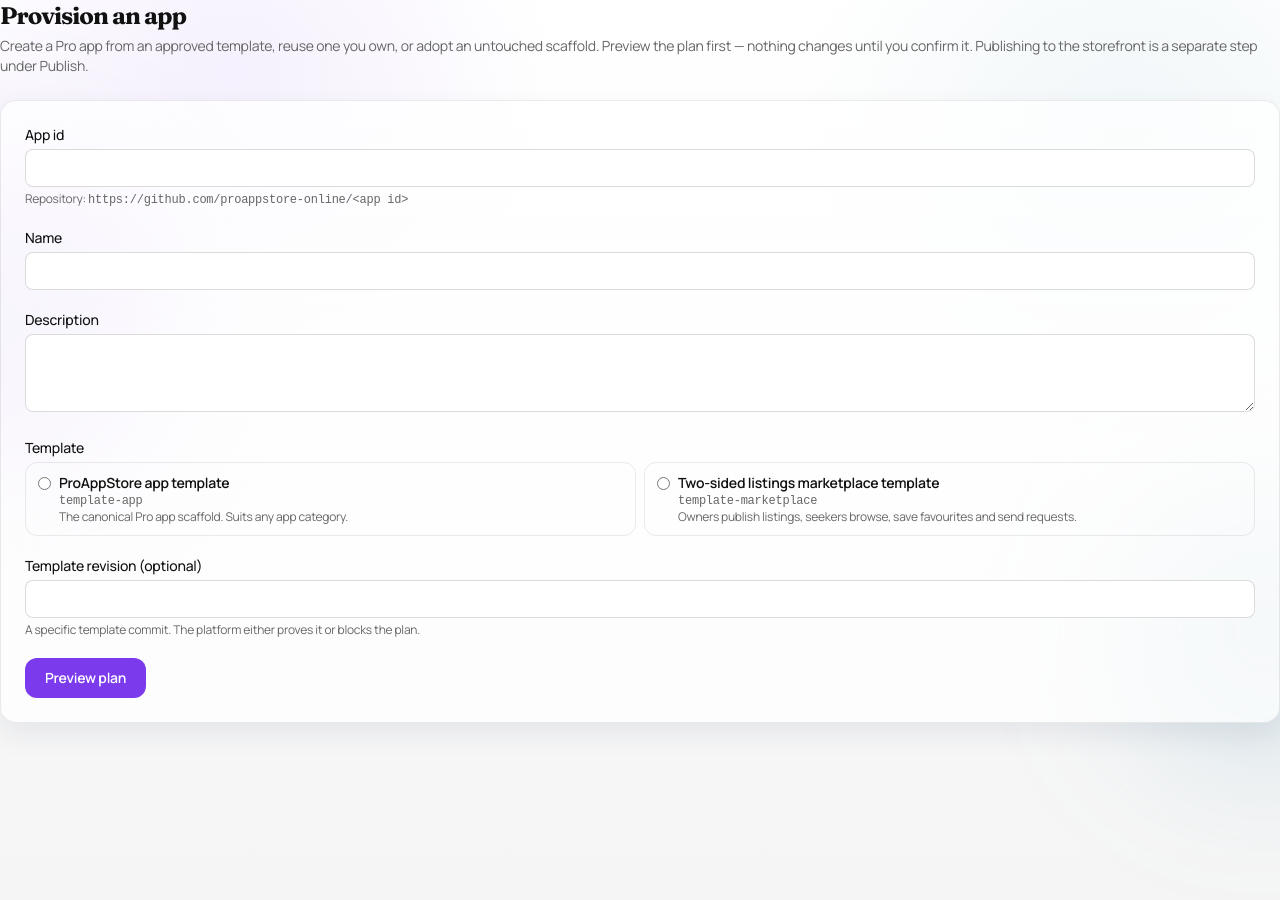
it: ProvisionView preview › sends exactly the reviewed intent with the session header, and does not confirm
The image size is (1280, 900).
In the field labelled "App id": (640, 168) top-left (25, 149), bottom-right (1255, 187), type "school-clubs"
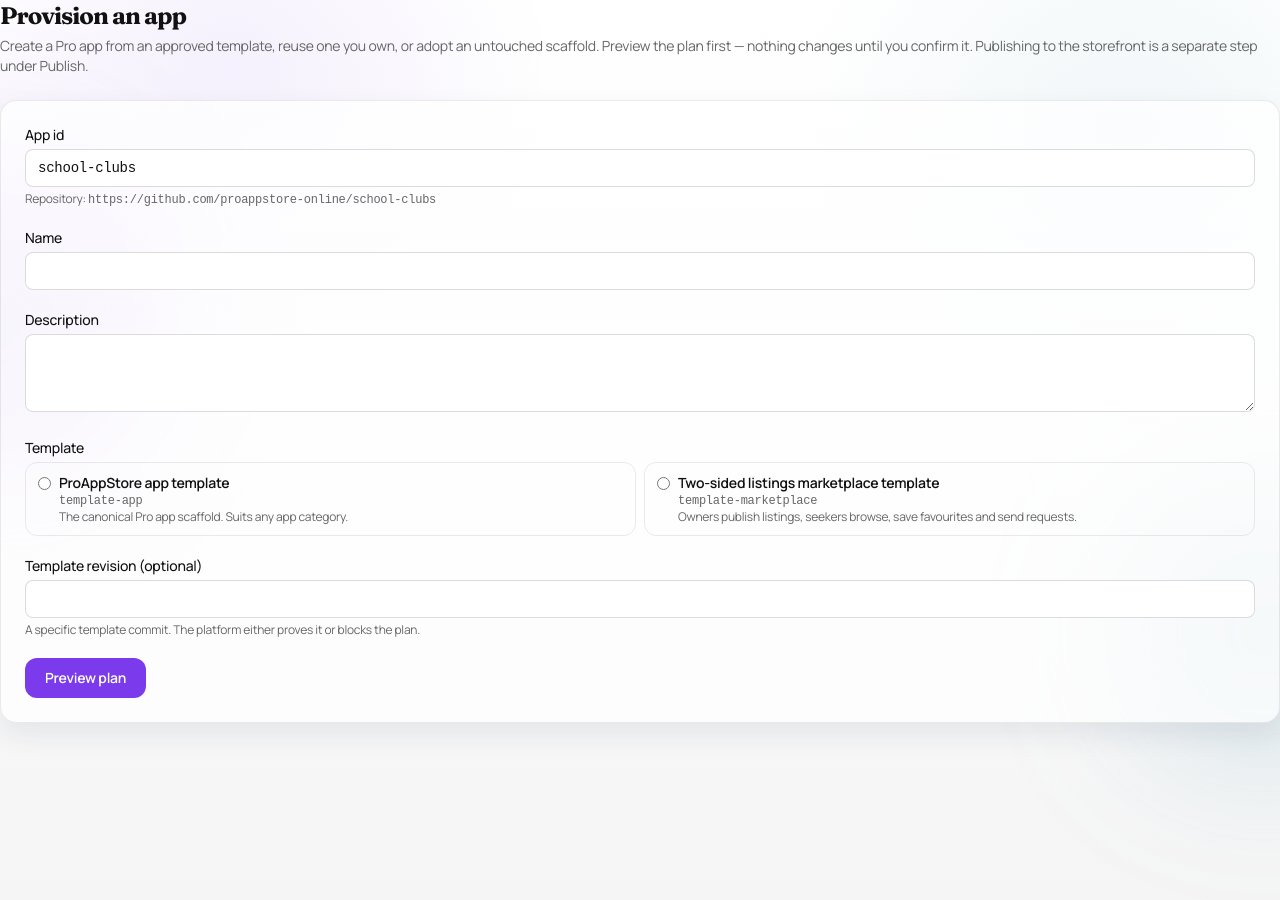
In the field labelled "Name": (640, 271) top-left (25, 252), bottom-right (1255, 290), type "  School Clubs "
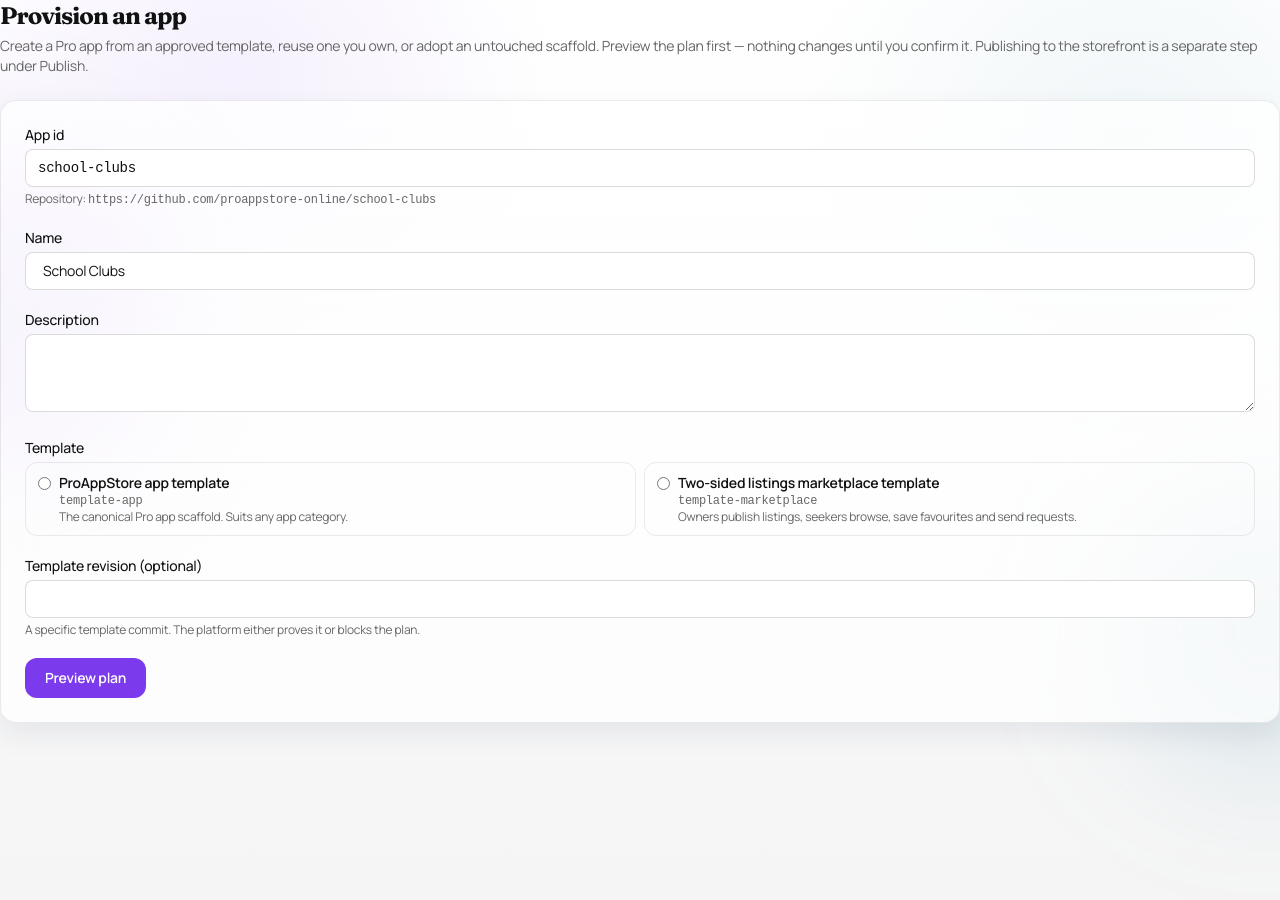
In the text box labelled "Description": (640, 373) top-left (25, 334), bottom-right (1255, 412), type "Coordinate school clubs."
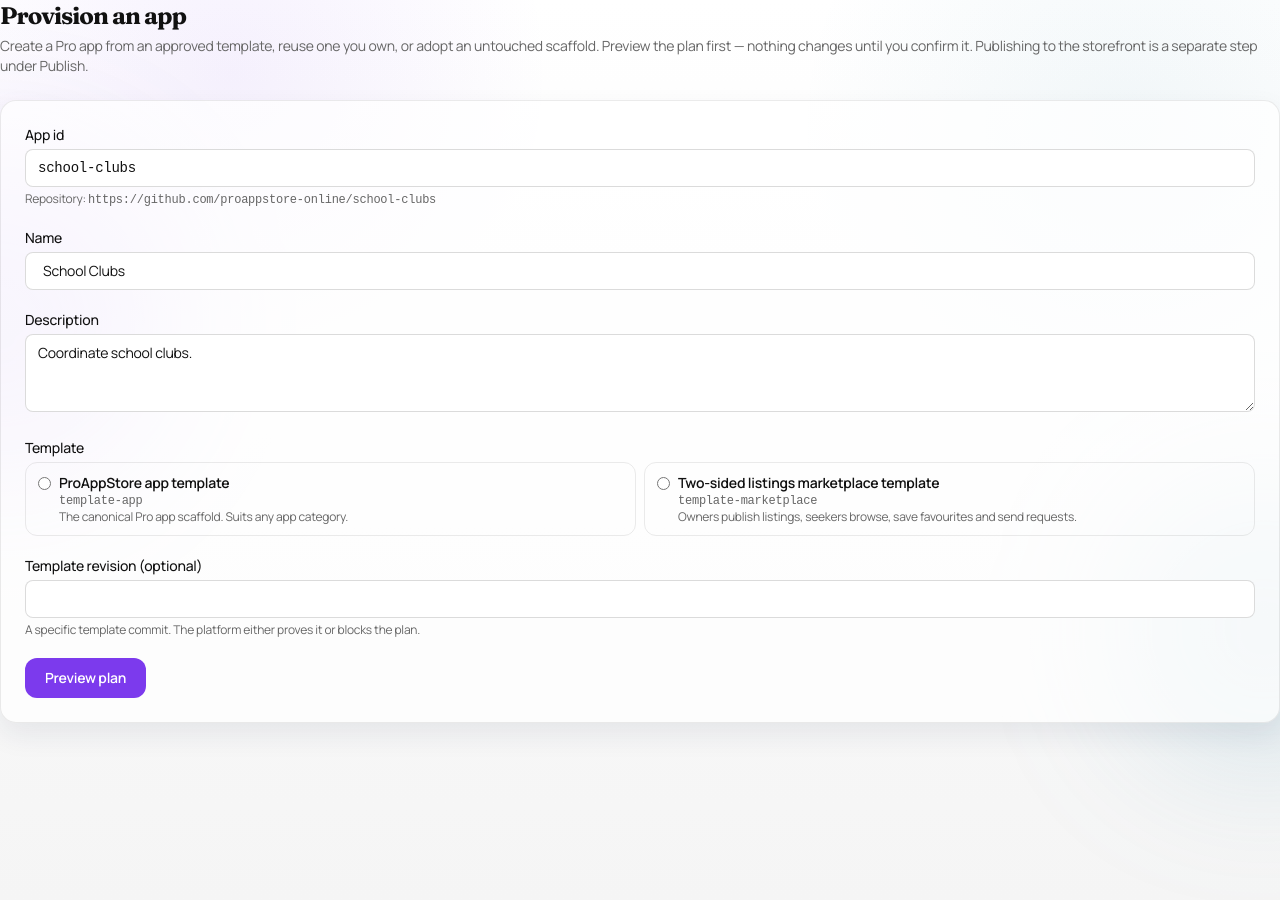
Click the radio button labelled "Two-sided listings": (664, 484) top-left (657, 477), bottom-right (670, 490)
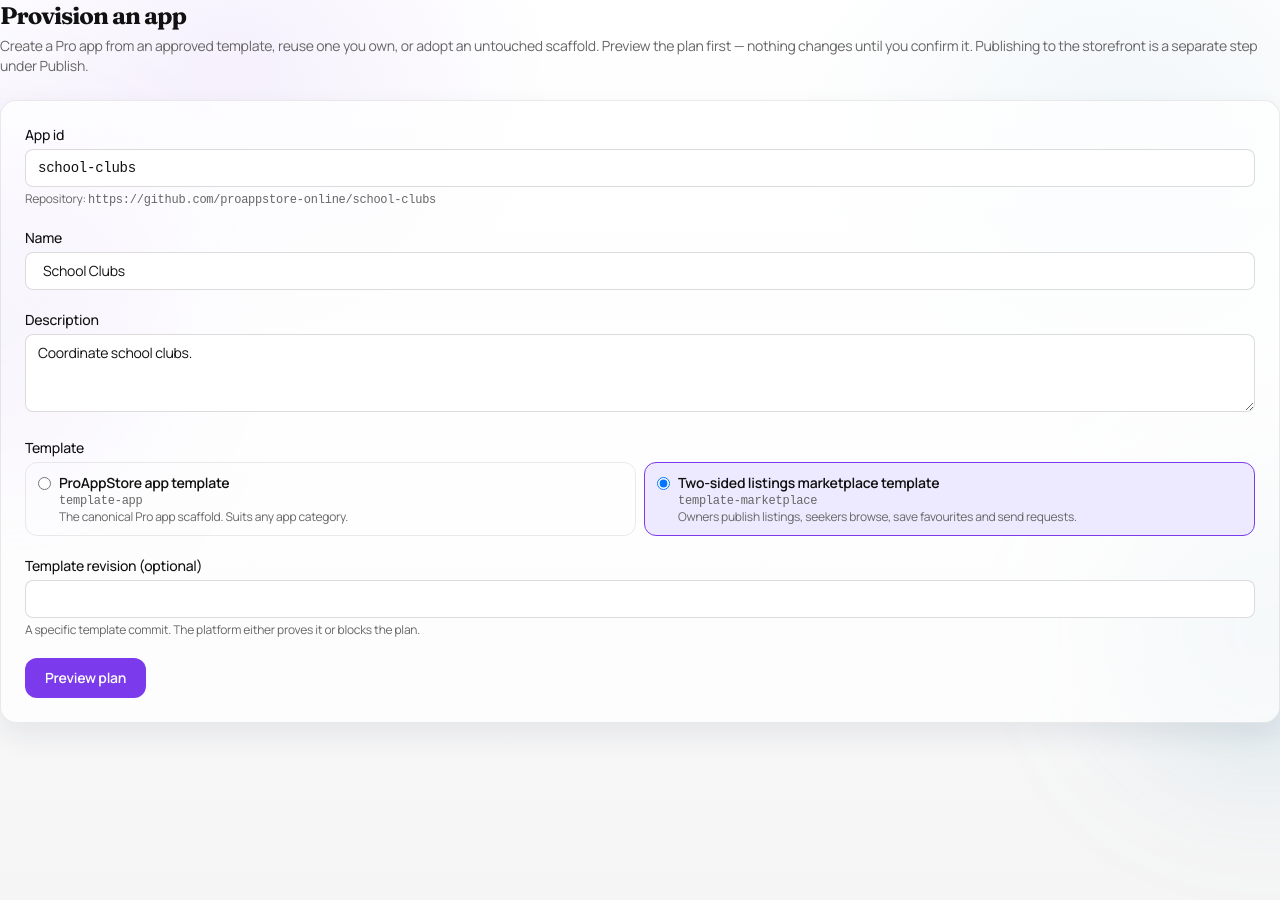
In the field labelled "Template revision (optional)": (640, 599) top-left (25, 580), bottom-right (1255, 618), type "abcdef1"
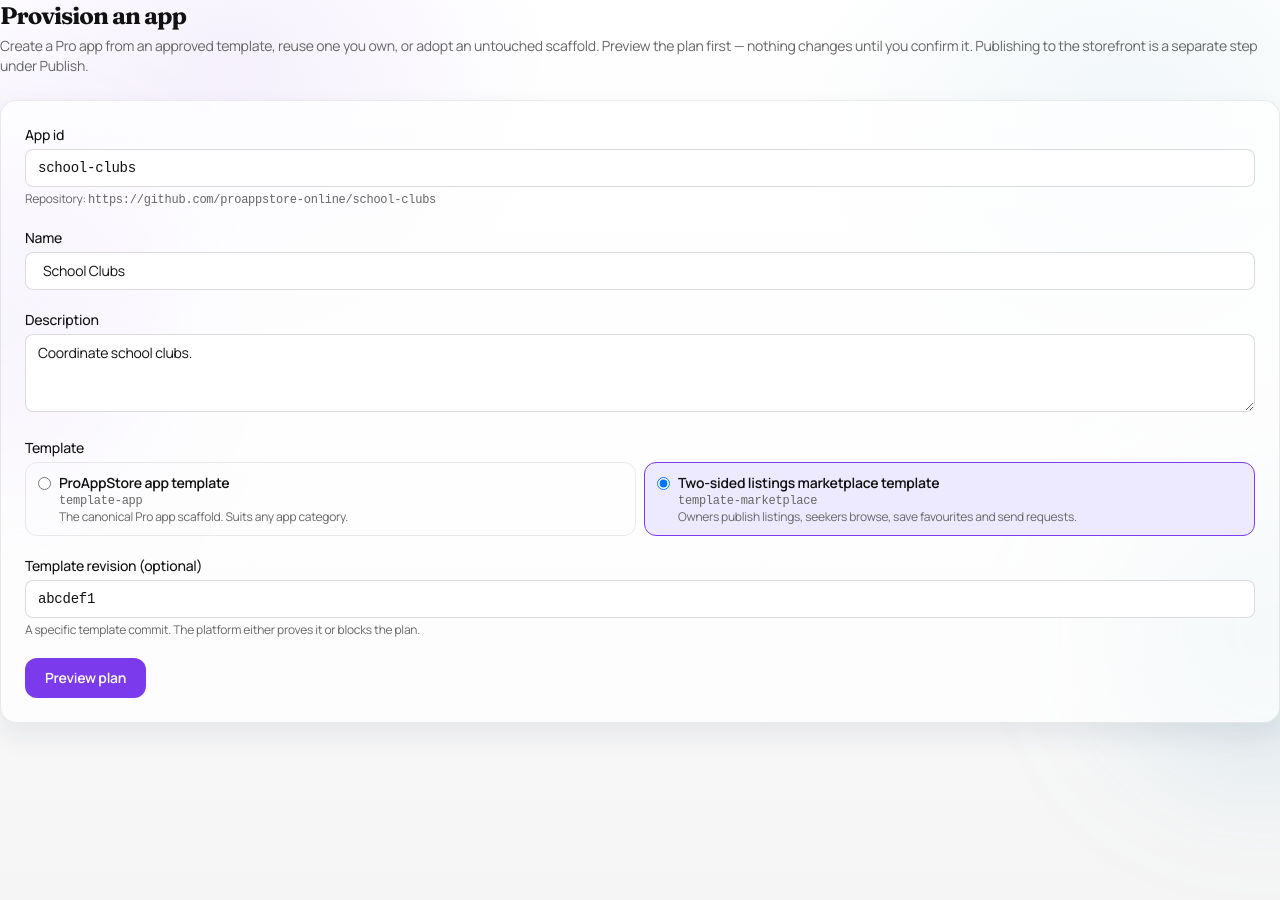
Click the button "Preview plan": (86, 678) top-left (25, 658), bottom-right (146, 698)
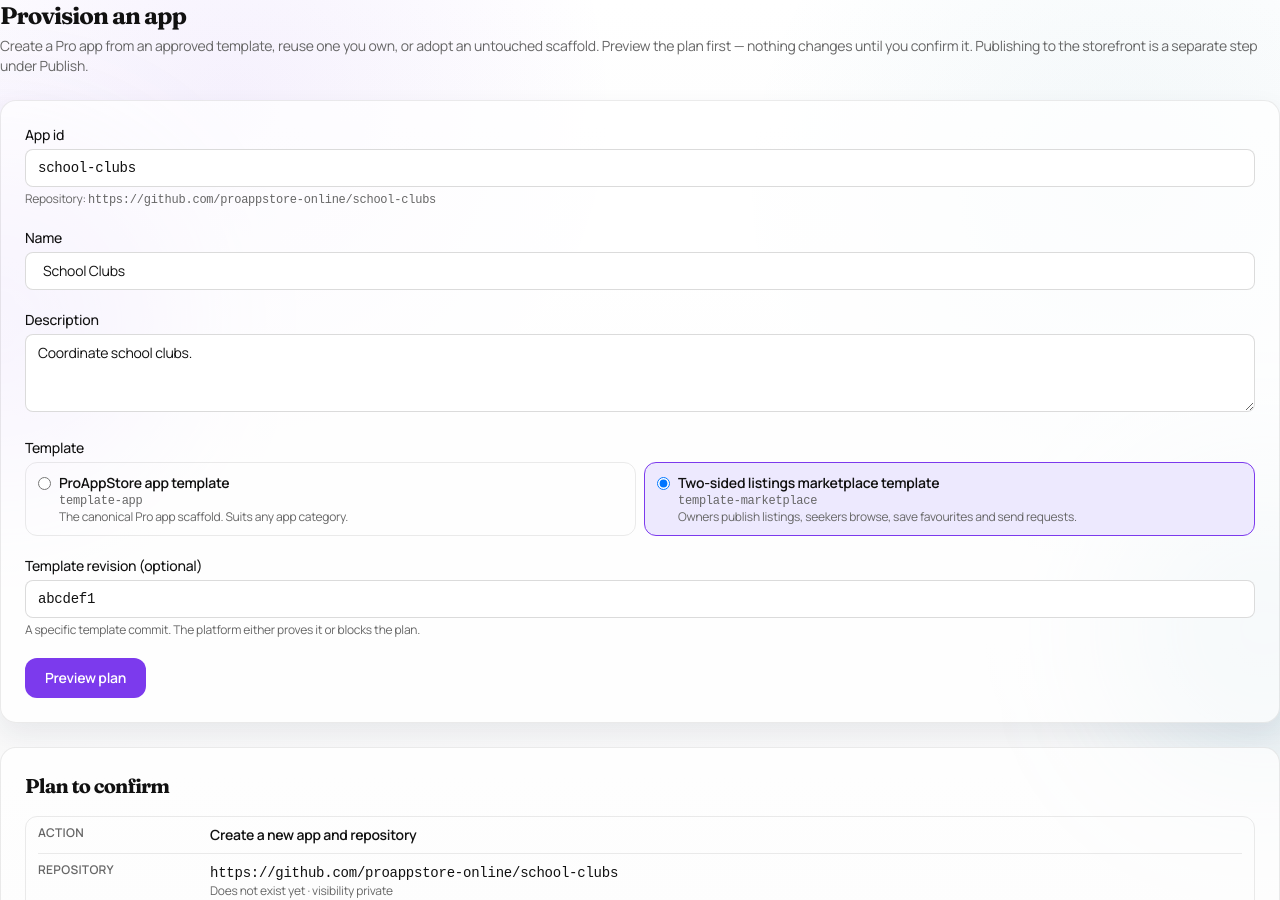
Now the heading "Plan to confirm" is shown, box top-left (25, 773), bottom-right (169, 798)
